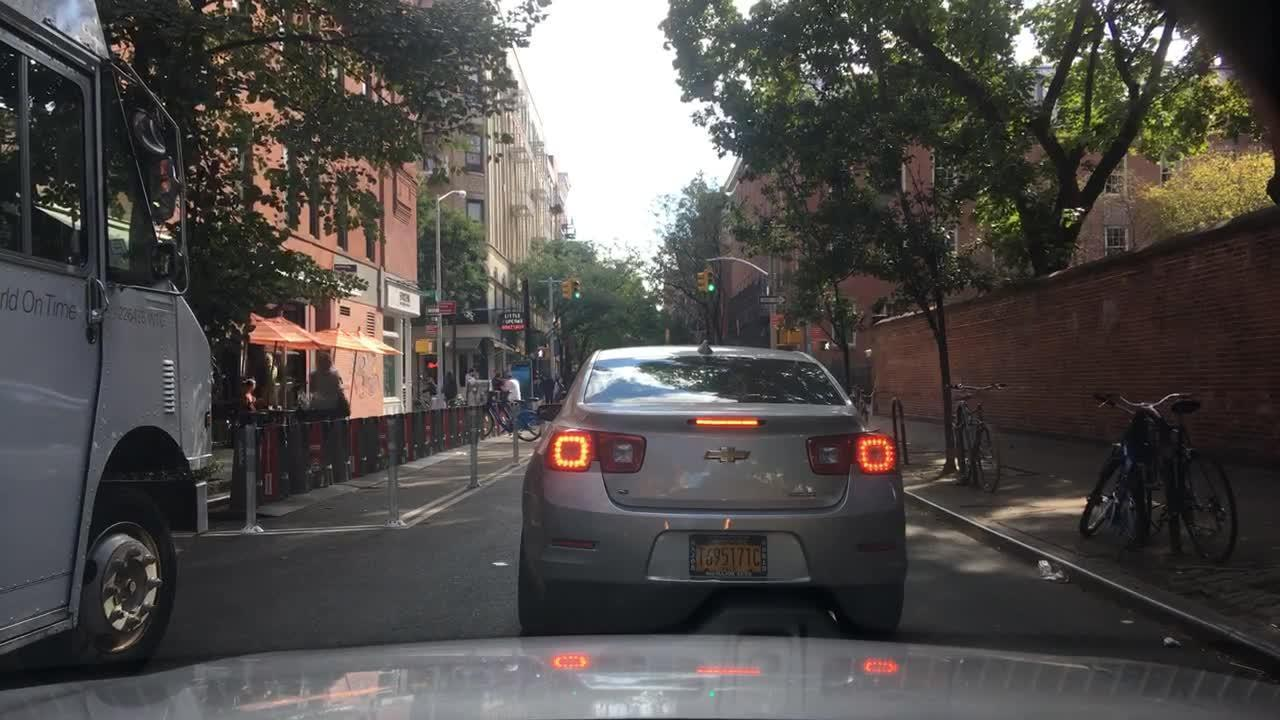chevrolet: (702, 440, 754, 470)
